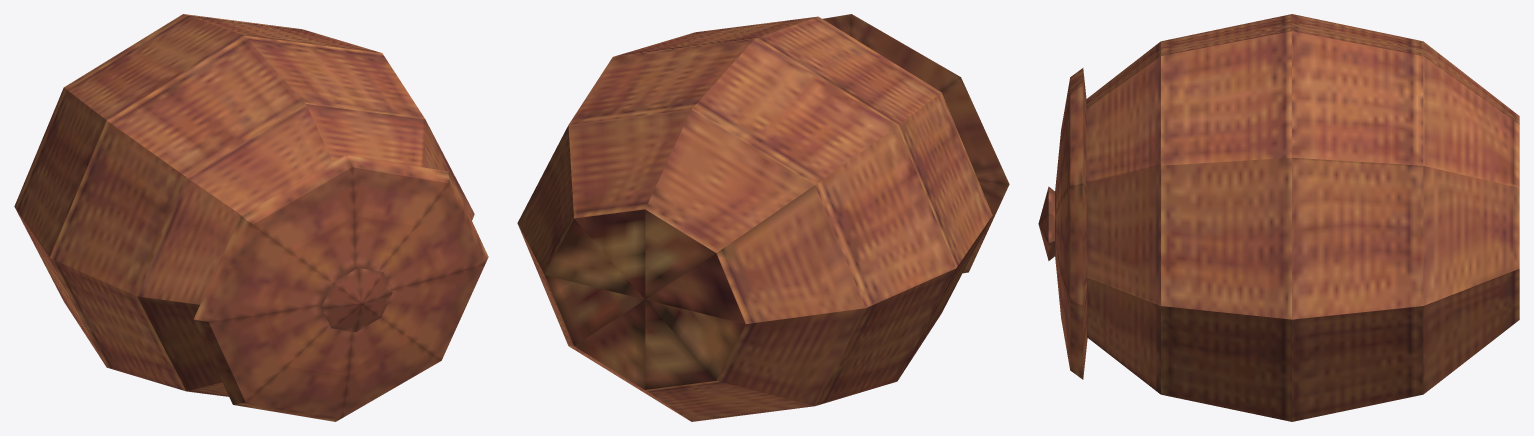
The model's file is basket.obj.
3 views of the same model, side by side, from view 1: azimuth 30°, elevation 25°; view 2: azimuth 150°, elevation 25°; view 3: azimuth 270°, elevation 25° (orthographic). The views are drawn at different scales.
Visible parts, largest first — view 1: basket; view 2: basket; view 3: basket.
Boxes of the visible parts, x1,y1,x2,y2 form: basket: (14,14,488,421); basket: (517,14,1009,421); basket: (1038,14,1519,421).
Bounding box in the file's own units: 0.35 × 0.3 × 0.35.
1 material, 1 textured.
